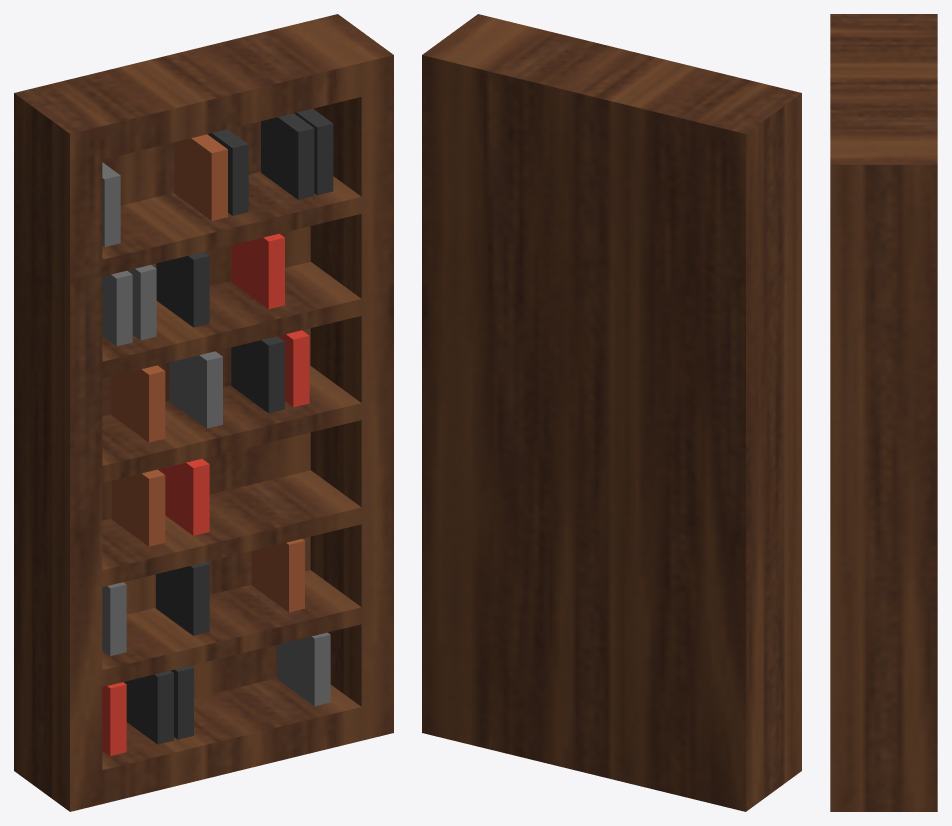
Rendered from bookcase.glb.
3 renders of one model, left to right at view 1: azimuth 30°, elevation 25°; view 2: azimuth 150°, elevation 25°; view 3: azimuth 270°, elevation 25°, orthographic. The views are drawn at different scales.
Visible parts, largest first — view 1: Bookcase; view 2: Bookcase; view 3: Bookcase.
Boxes of the visible parts, x1,y1,x2,y2 form: Bookcase: (14, 14, 393, 811); Bookcase: (422, 14, 801, 811); Bookcase: (830, 14, 937, 811).
Bounding box in the file's own units: 1 × 2 × 0.3.
Materials: 5 (1 with a texture image).
